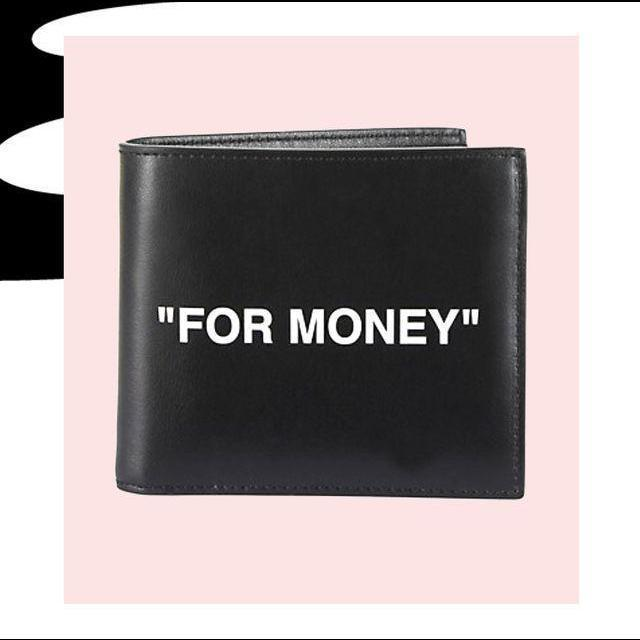wallet: (110, 122, 530, 510)
